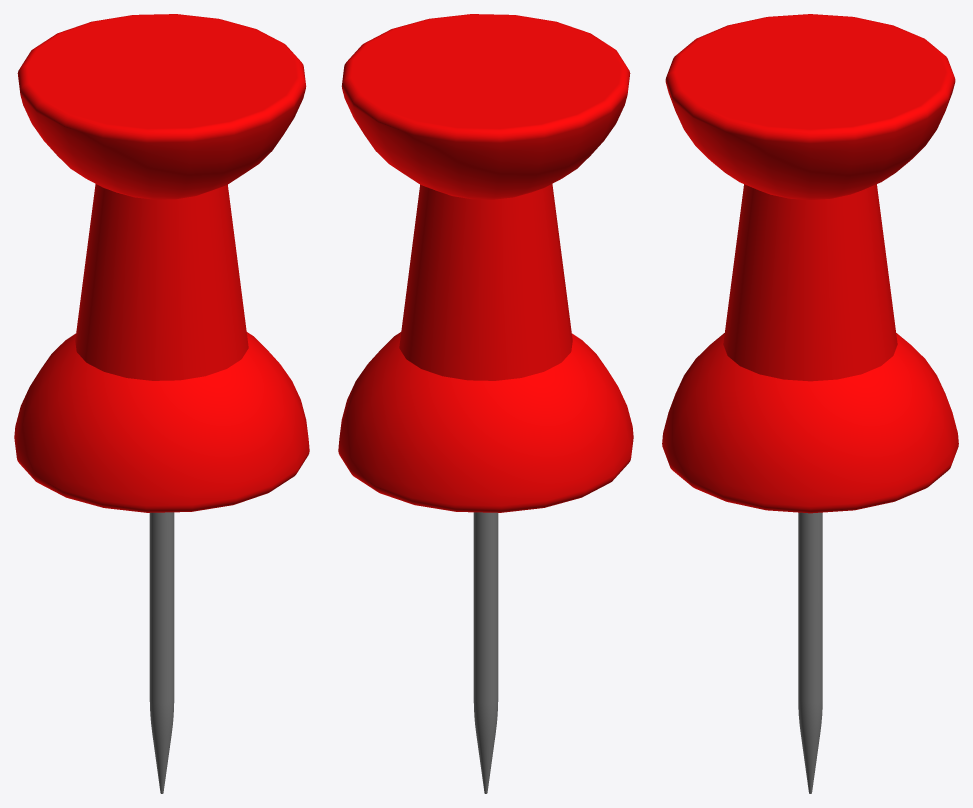
The picture shows the model from 3 angles, left to right: view 1: azimuth 30°, elevation 25°; view 2: azimuth 150°, elevation 25°; view 3: azimuth 270°, elevation 25°; orthographic projection.
Visible parts, largest first — view 1: polySurface2, polySurface1; view 2: polySurface2, polySurface1; view 3: polySurface2, polySurface1.
Boxes of the visible parts, x1=… form: polySurface2: x1=14, y1=14, x2=309, y2=512; polySurface1: x1=149, y1=512, x2=174, y2=793; polySurface2: x1=338, y1=14, x2=633, y2=512; polySurface1: x1=473, y1=512, x2=498, y2=793; polySurface2: x1=662, y1=14, x2=958, y2=513; polySurface1: x1=798, y1=512, x2=822, y2=793.
Size of the model in its own units: 1.21 by 3.23 by 1.21.
